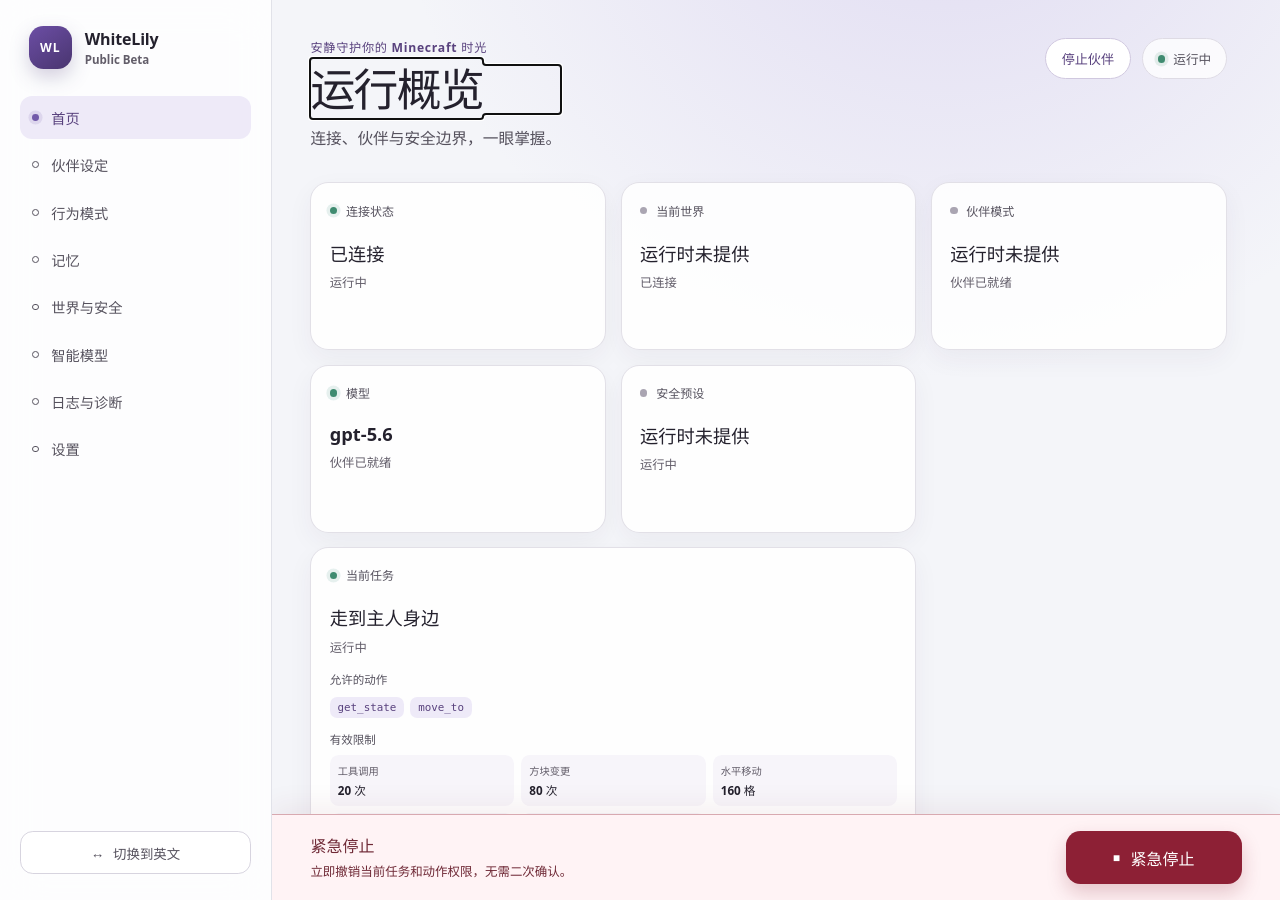
Test case: bilingual control-center home › switches every visible navigation, status, action, and empty-state label to English
This screenshot has width=1280, height=900.
What coordinates should you click on to do the following:
click the button "↔ 切换到英文"
I would click on:
 (136, 853)
Its box is [20,831,251,874].
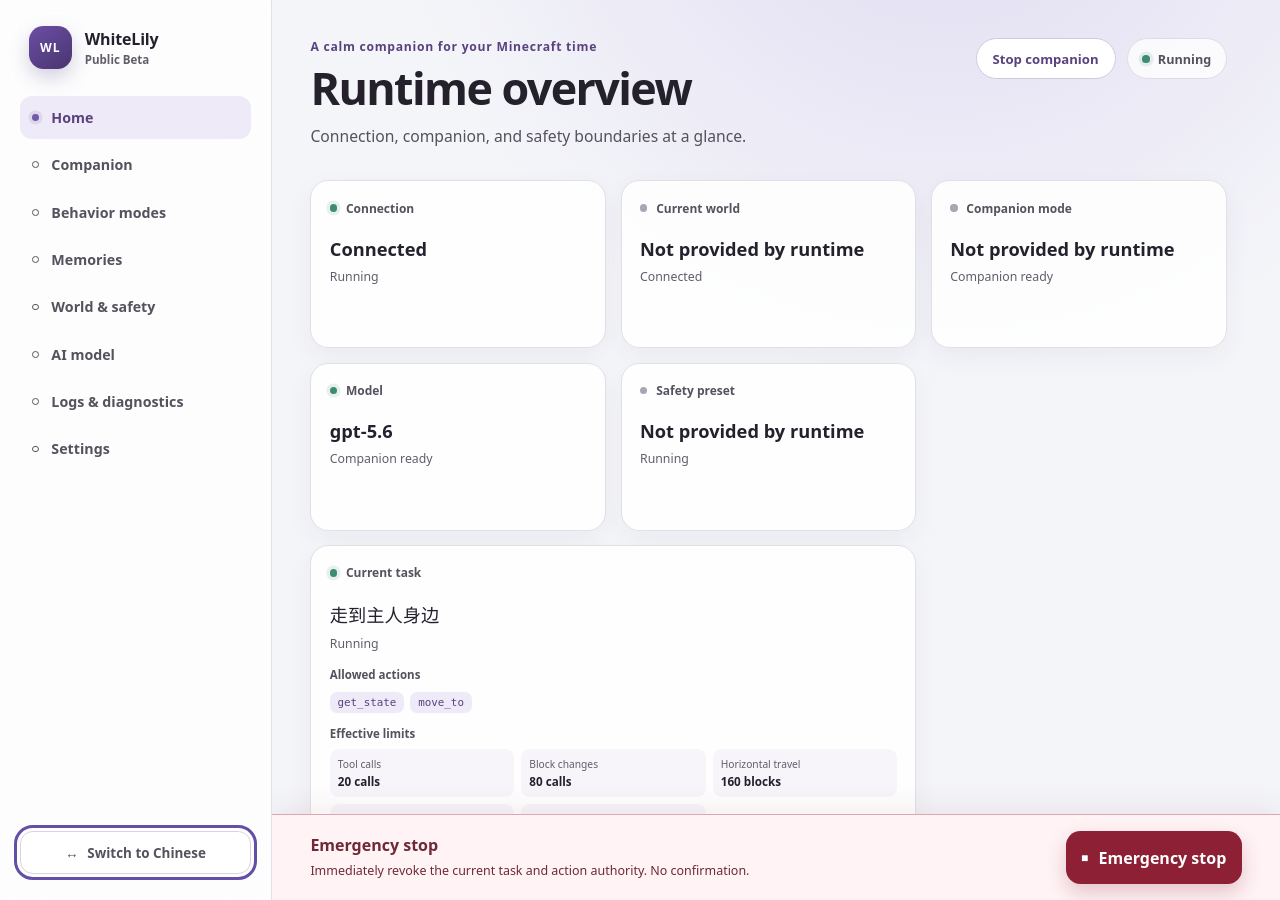
expect the navigation bar named "Primary navigation" is shown: met, box [20,96,251,471]
expect the heading "Runtime overview" is shown: met, box [310,64,746,113]
expect the heading "Current world" is shown: met, box [656,200,740,216]
